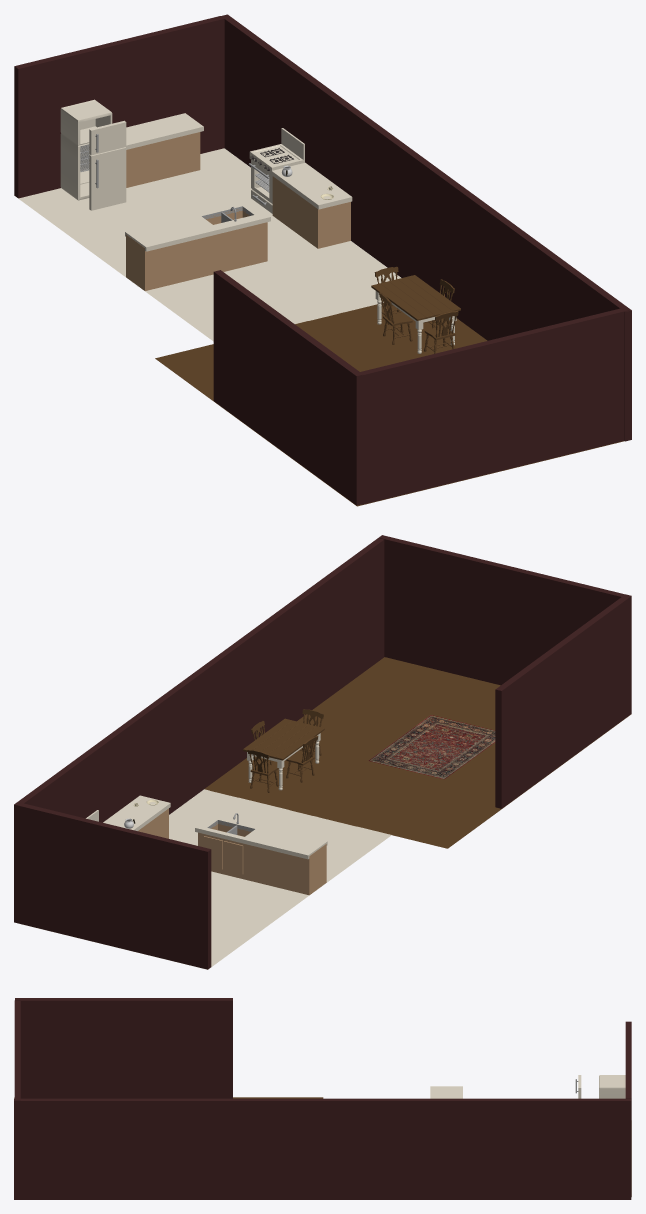
Rendered from Lee.fbx.
The picture shows the model from 3 angles, top to bottom: view 1: azimuth 30°, elevation 25°; view 2: azimuth 150°, elevation 25°; view 3: azimuth 270°, elevation 25°; orthographic projection. The views are drawn at different scales.
Visible parts, largest first — view 1: pasted__pasted__pCube40, pasted__pasted__pCube41, pasted__pasted__pPlane3, pasted__pasted__pCube44, pasted__pasted__pCube42, pasted__pasted__pPlane2, pasted__pasted__pCube117, pasted__pasted__polySurface68, pasted__pasted__polySurface254, pasted__pasted__pCube46, pasted__pasted__pCube118, pasted__pasted__pCube101 (+5 smaller); view 2: pasted__pasted__pCube40, pasted__pasted__pPlane2, pasted__pasted__pCube44, pasted__pasted__pCube41, pasted__pasted__pCube42, pasted__pasted__pPlane3, polySurface420, pasted__pasted__polySurface68, pasted__pasted__pCube117, pasted__pasted__pCube118, pasted__pasted__pCube119, polySurface425; view 3: pasted__pasted__pCube40, pasted__pasted__pCube42, pasted__pasted__pCube41, pasted__pasted__polySurface254, pasted__pasted__pCube44, pasted__pasted__pCube118.
Boxes of the visible parts, bbox=[...] form: pasted__pasted__pCube40: bbox=[221, 14, 631, 441]; pasted__pasted__pCube41: bbox=[360, 307, 629, 504]; pasted__pasted__pPlane3: bbox=[14, 148, 401, 341]; pasted__pasted__pCube44: bbox=[14, 16, 224, 198]; pasted__pasted__pCube42: bbox=[213, 270, 363, 505]; pasted__pasted__pPlane2: bbox=[155, 303, 624, 506]; pasted__pasted__pCube117: bbox=[126, 208, 267, 290]; pasted__pasted__polySurface68: bbox=[371, 266, 460, 353]; pasted__pasted__polySurface254: bbox=[60, 99, 112, 200]; pasted__pasted__pCube46: bbox=[272, 176, 350, 248]; pasted__pasted__pCube118: bbox=[125, 201, 270, 251]; pasted__pasted__pCube101: bbox=[126, 132, 200, 187]; pasted__pasted__pCube40: bbox=[14, 535, 384, 923]; pasted__pasted__pPlane2: bbox=[204, 657, 631, 848]; pasted__pasted__pCube44: bbox=[20, 803, 211, 969]; pasted__pasted__pCube41: bbox=[380, 535, 624, 685]; pasted__pasted__pCube42: bbox=[495, 594, 631, 808]; pasted__pasted__pPlane3: bbox=[20, 789, 391, 969]; polySurface420: bbox=[368, 715, 495, 779]; pasted__pasted__polySurface68: bbox=[243, 709, 324, 792]; pasted__pasted__pCube117: bbox=[198, 822, 326, 895]; pasted__pasted__pCube118: bbox=[195, 813, 327, 859]; pasted__pasted__pCube119: bbox=[103, 795, 170, 830]; polySurface425: bbox=[203, 836, 243, 874]; pasted__pasted__pCube40: bbox=[14, 1098, 631, 1199]; pasted__pasted__pCube42: bbox=[15, 998, 232, 1098]; pasted__pasted__pCube41: bbox=[14, 1000, 20, 1100]; pasted__pasted__polySurface254: bbox=[599, 1075, 625, 1098]; pasted__pasted__pCube44: bbox=[625, 1021, 631, 1196]; pasted__pasted__pCube118: bbox=[430, 1086, 462, 1098].
Bounding box in the file's own units: 19.99 × 9.06 × 51.
